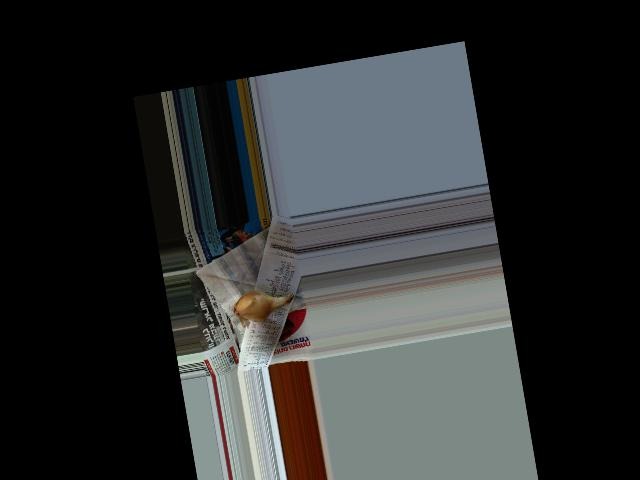onion: (234, 288, 281, 323)
